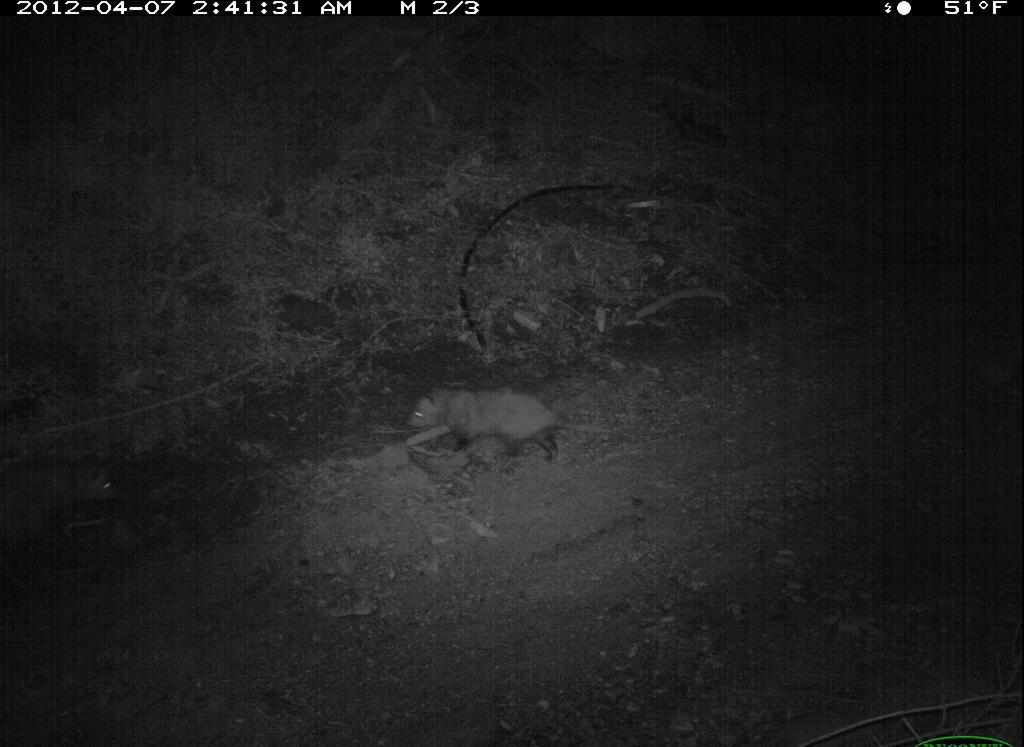opossum: (396, 376, 617, 467), (1, 450, 121, 533)
